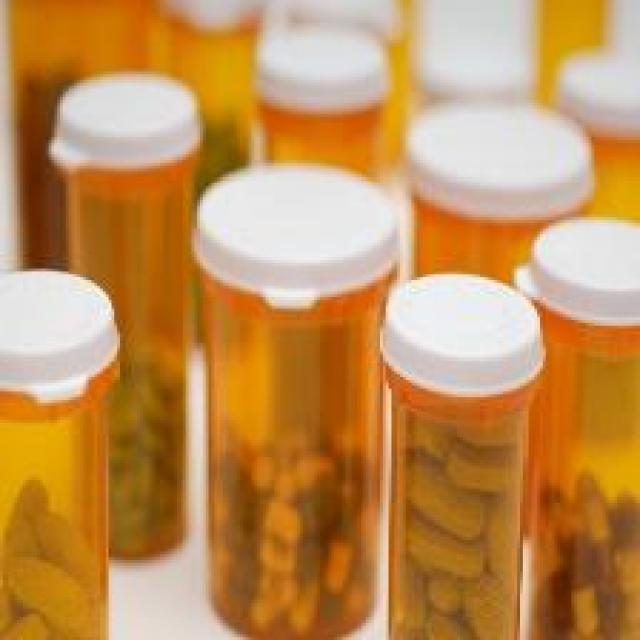Medicine: (2, 0, 640, 640)
